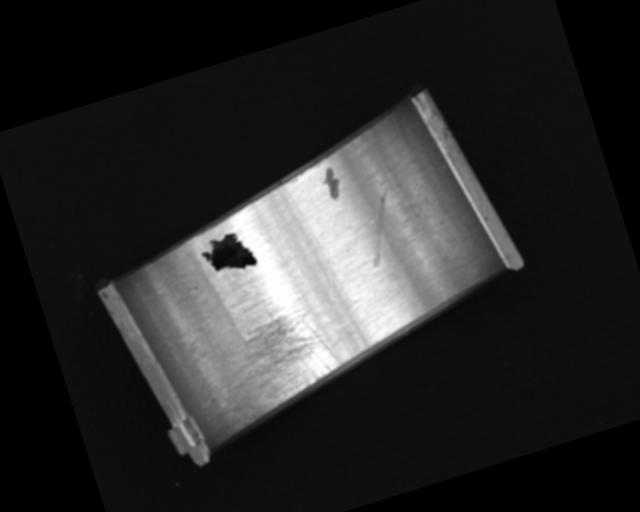blot: (196, 226, 258, 280)
bruise: (318, 164, 346, 202)
nick: (282, 180, 340, 305), (352, 187, 408, 270)
scratch: (204, 290, 353, 429)
